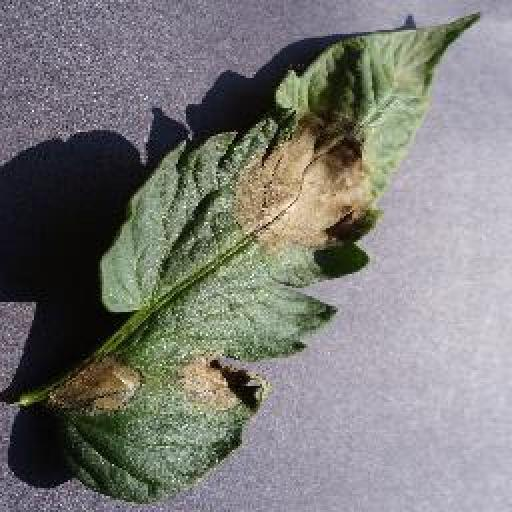disease_tomato: (52, 9, 491, 512)
